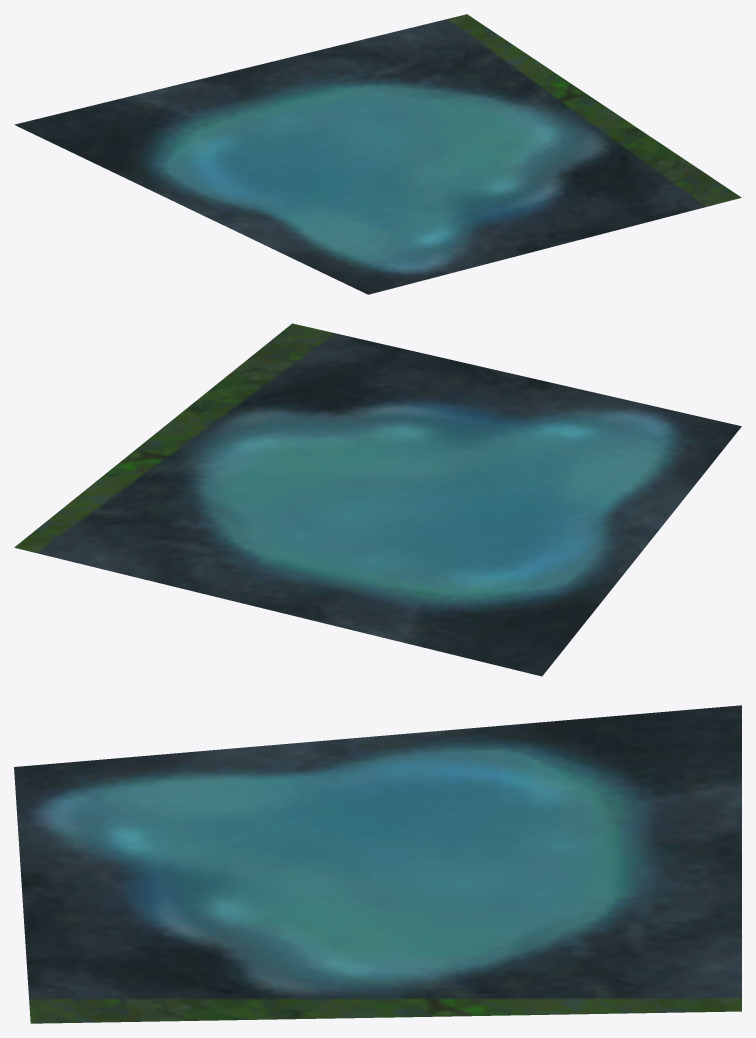
The model's file is stemple_puddle_03.fbx.
3 renders of one model, top to bottom at view 1: azimuth 30°, elevation 25°; view 2: azimuth 150°, elevation 25°; view 3: azimuth 270°, elevation 25°, orthographic. The views are drawn at different scales.
Visible parts, largest first — view 1: sunken_tileset/sunken_decal02_mat; view 2: sunken_tileset/sunken_decal02_mat; view 3: sunken_tileset/sunken_decal02_mat.
Boxes of the visible parts, x1,y1,x2,y2 form: sunken_tileset/sunken_decal02_mat: [14, 14, 741, 294]; sunken_tileset/sunken_decal02_mat: [14, 323, 741, 676]; sunken_tileset/sunken_decal02_mat: [14, 705, 741, 1023].
Size of the model in its own units: 1.75 by 0 by 1.69.
